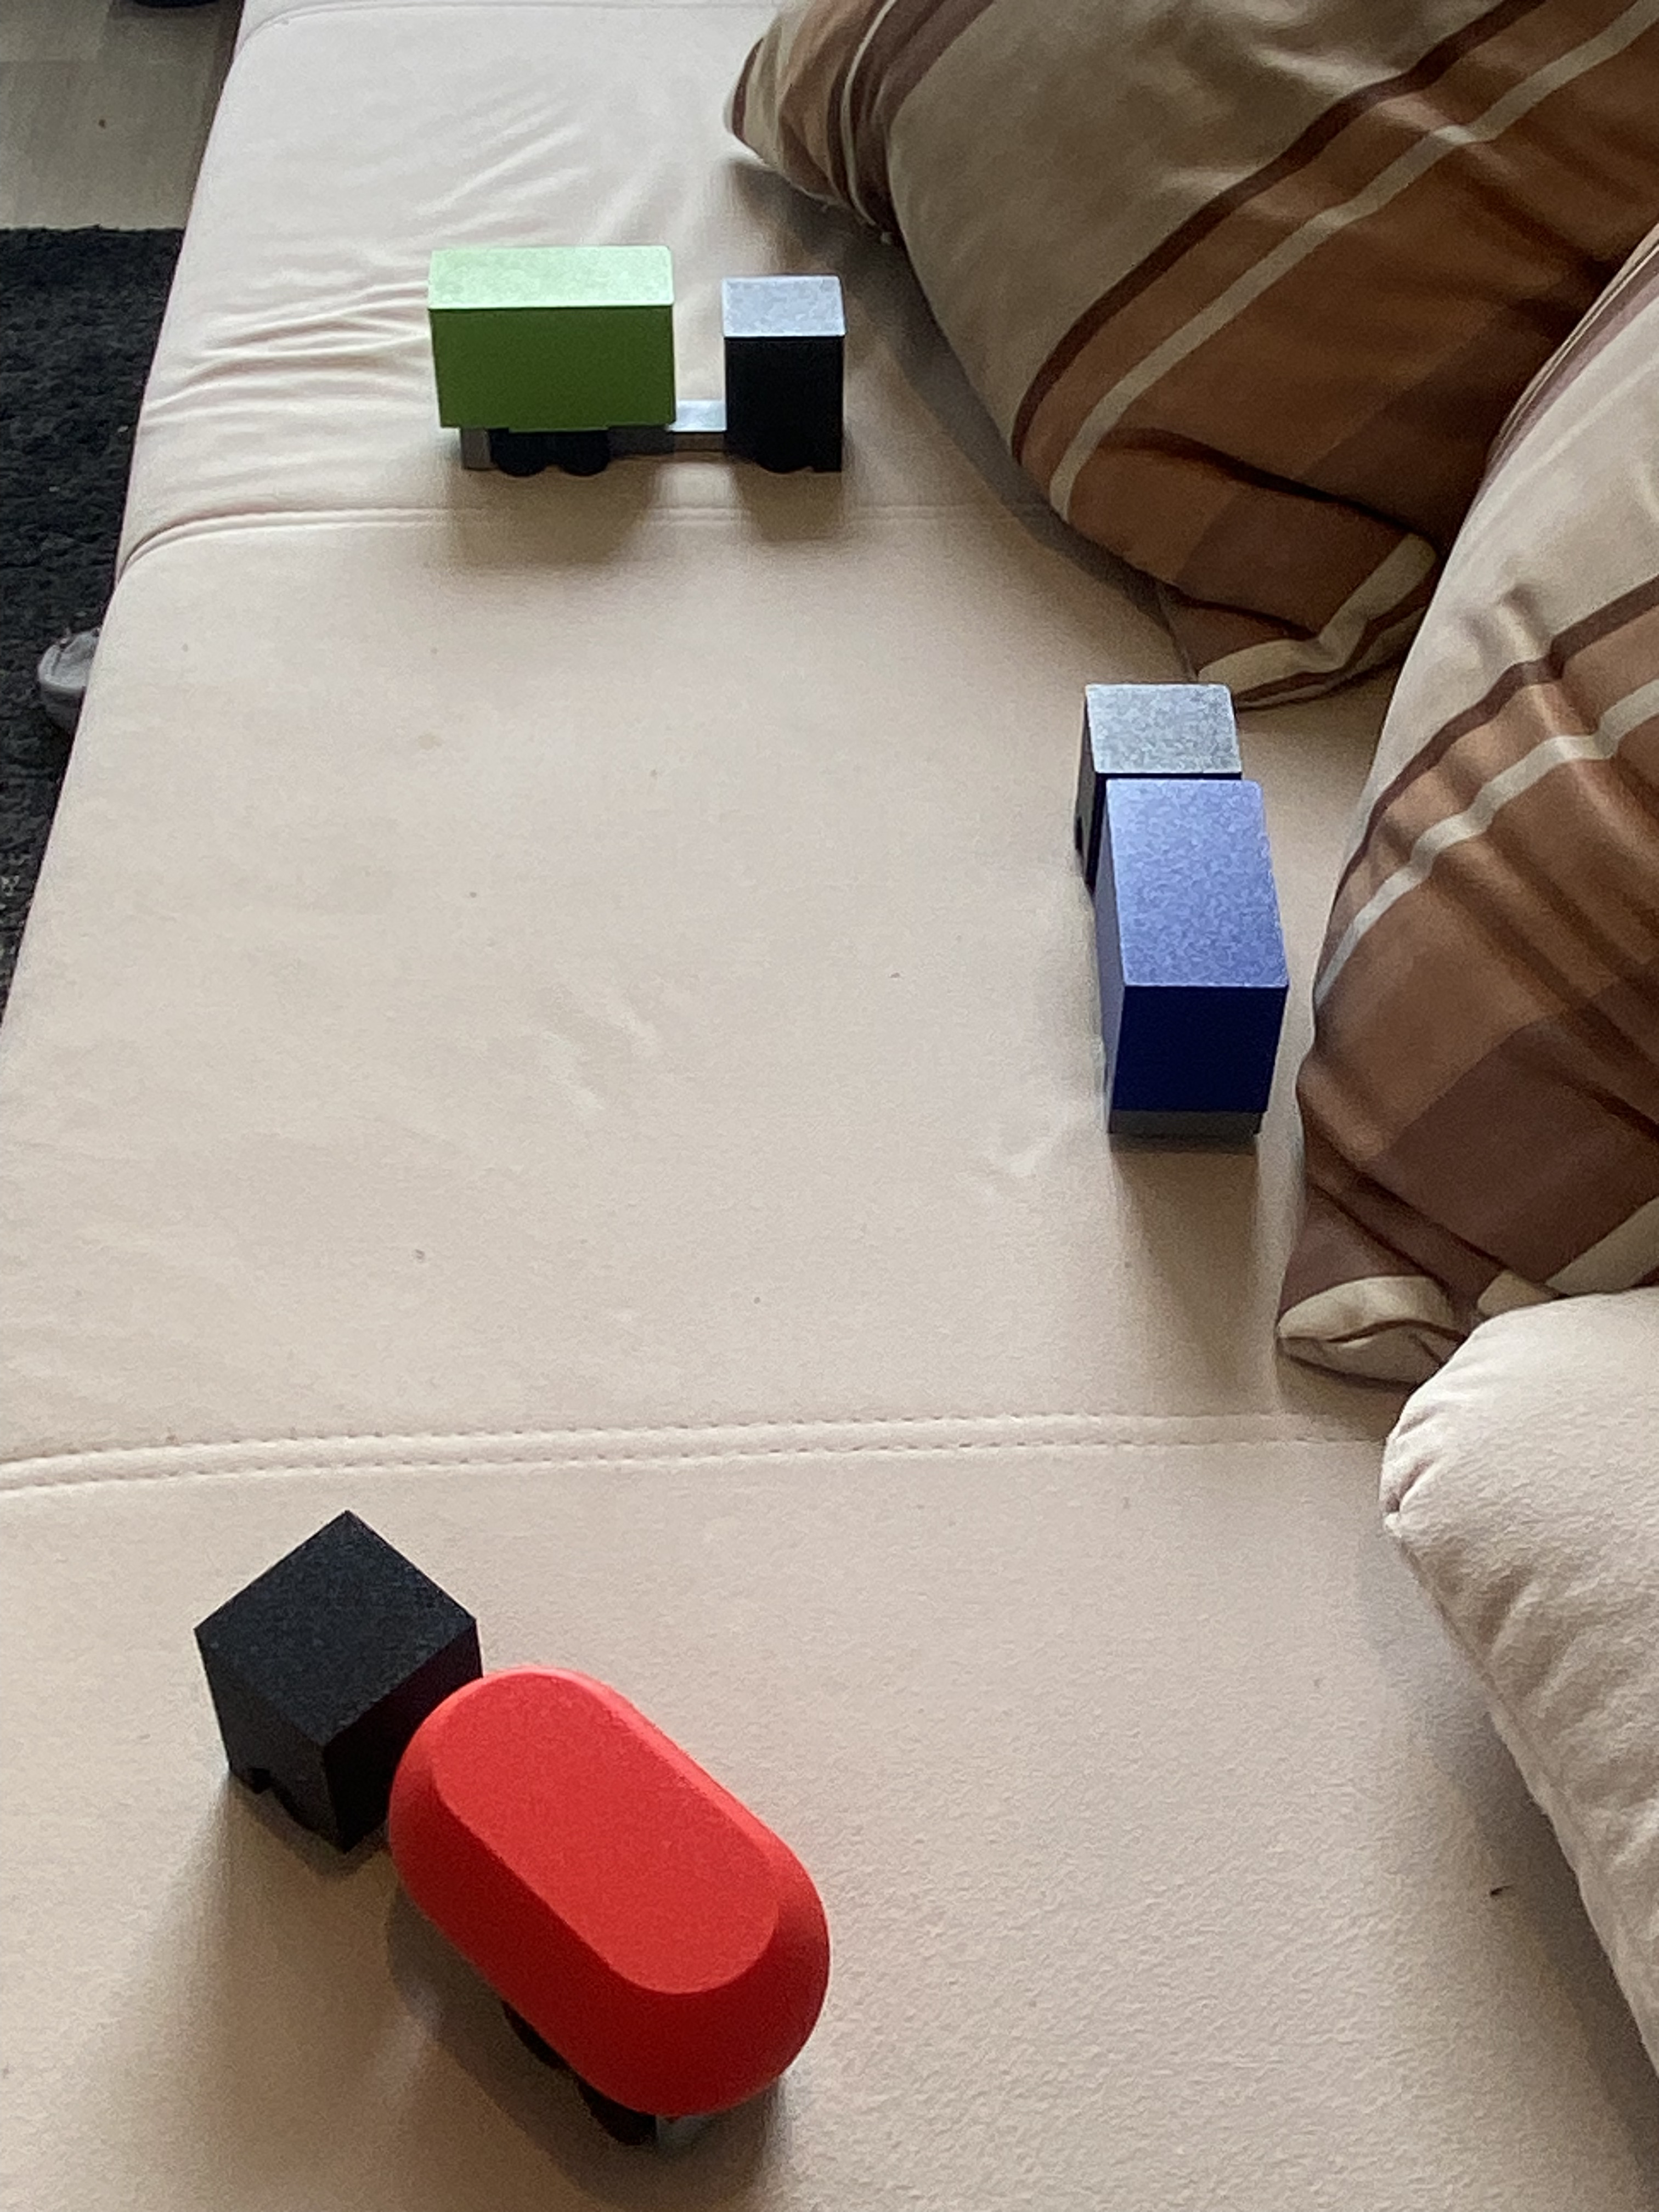blue_truck: (941, 799, 1417, 1019)
green_truck: (511, 141, 763, 570)
red_truck: (160, 1625, 890, 2022)
